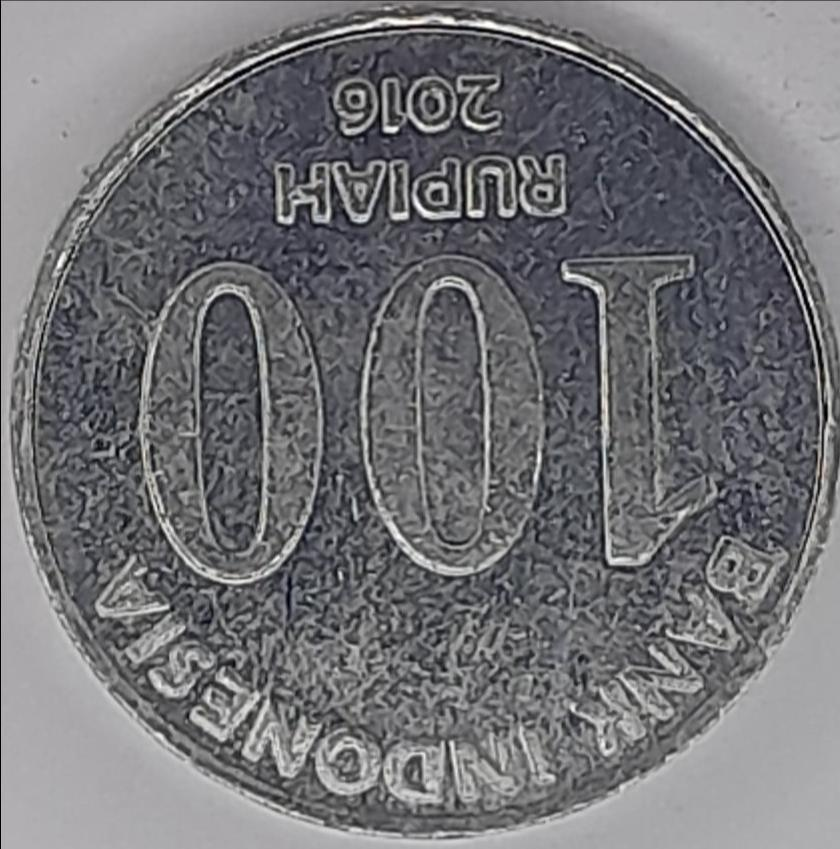coin_100_e2016: (5, 0, 839, 843)
